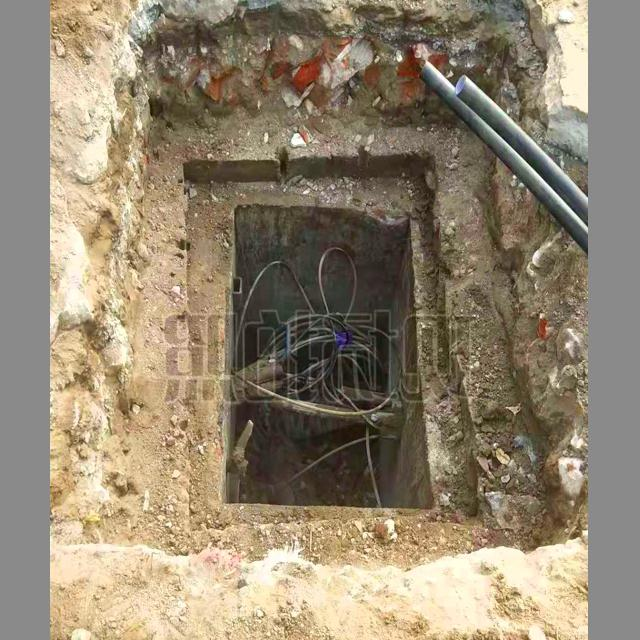lose: (221, 166, 438, 512)
